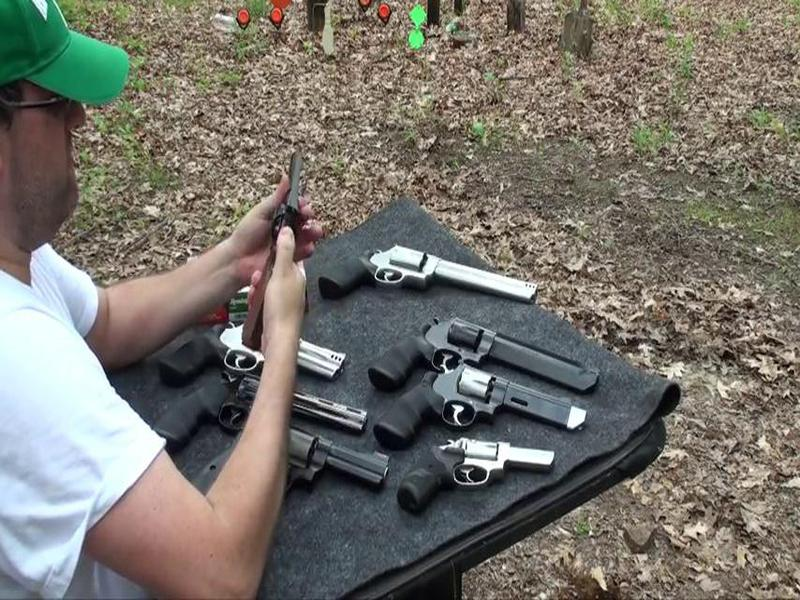Revolver: (240, 142, 321, 375)
